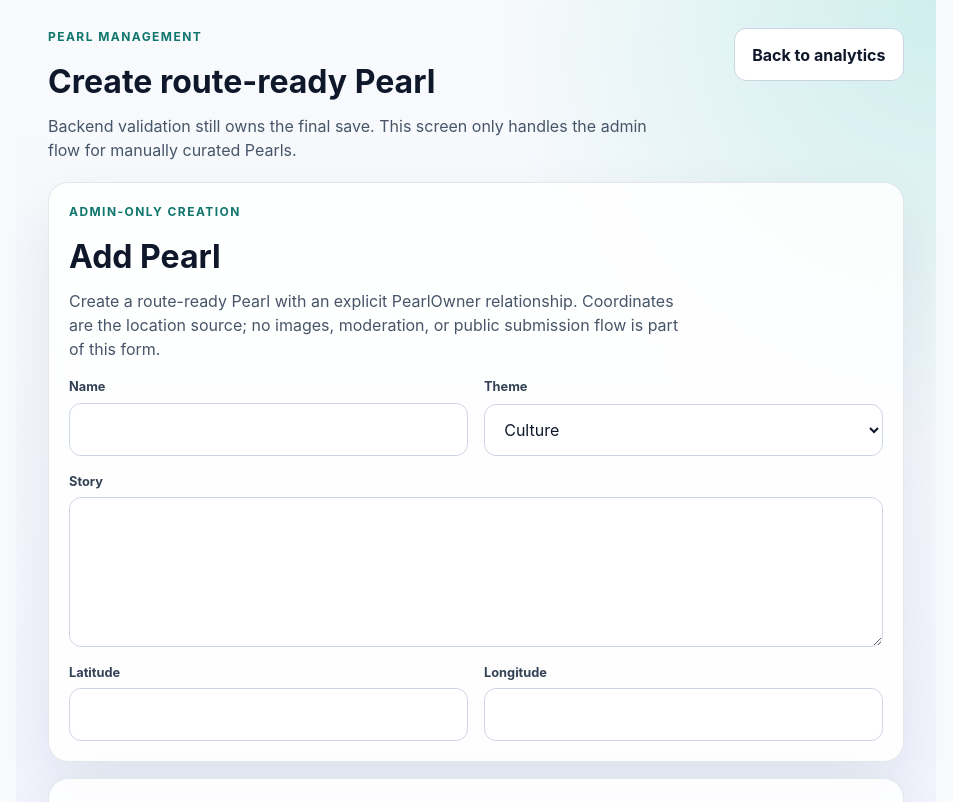
Scenario: AdminAddPearlPage › submits a Pearl with an existing PearlOwner and shows success
Step 1. Type "Hidden Courtyard" into the field labelled "Name" → (268,429), box [69,403,468,456]
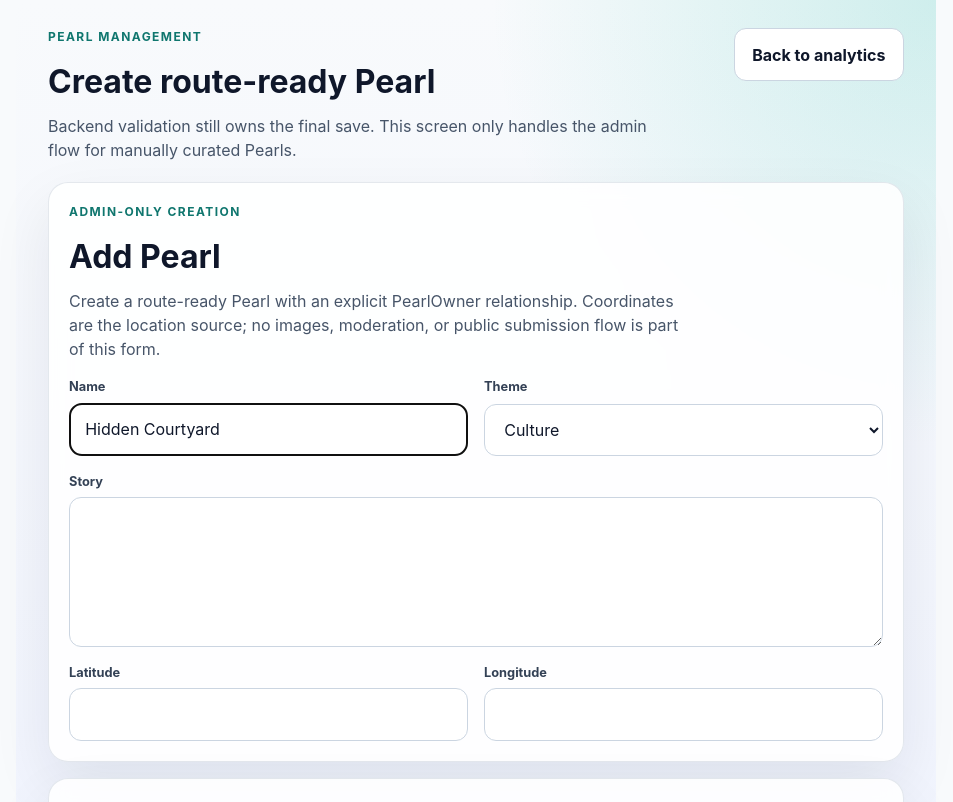
Step 2. Type "A small story about a quiet courtyard in Brussels." into the text box labelled "Story" → (476,572), box [69,497,883,646]
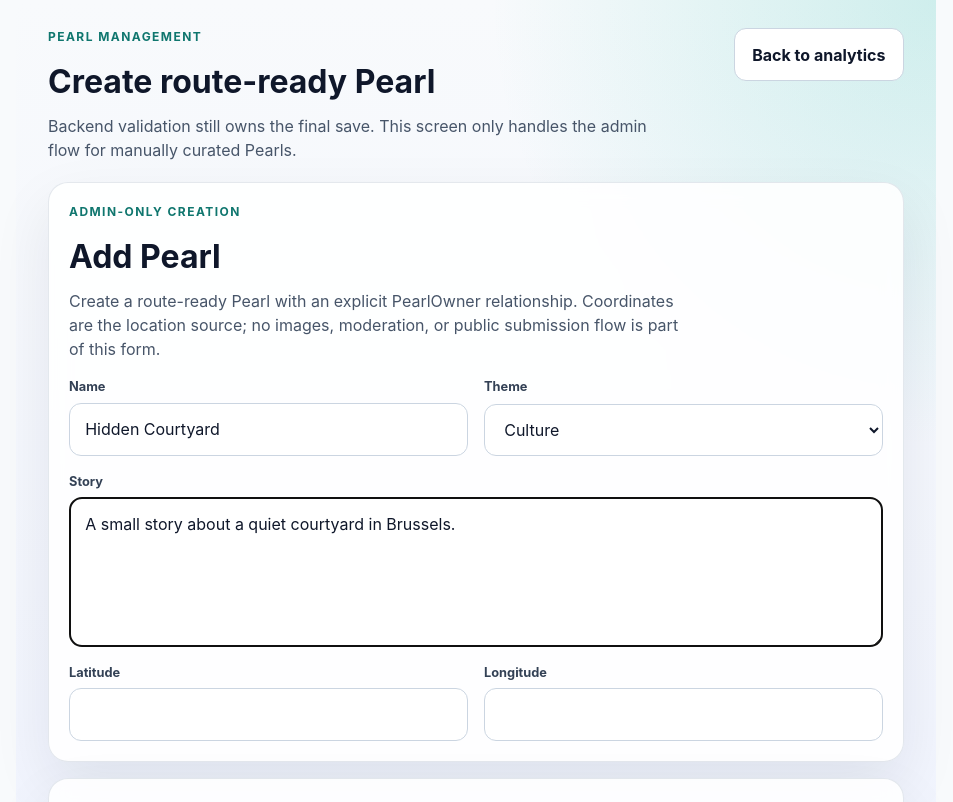
Step 3. Type "50.8467" into the field labelled "Latitude" → (268,715), box [69,688,468,741]
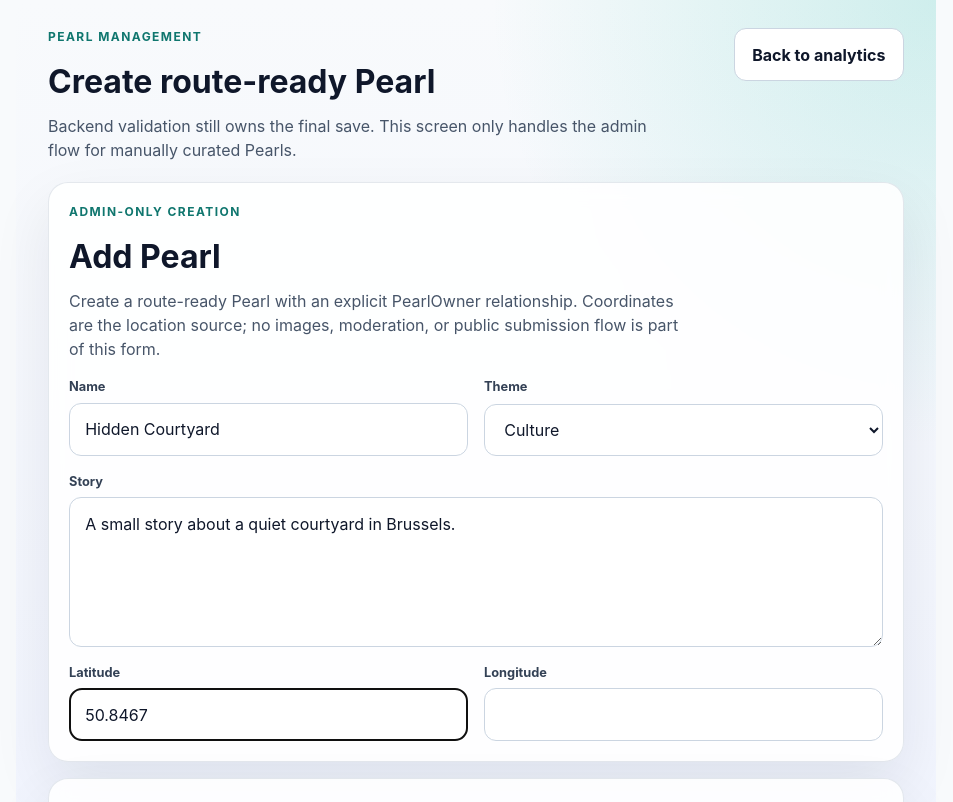
Step 4. Type "4.3525" into the field labelled "Longitude" → (684,715), box [484,688,883,741]
(page scrolled)
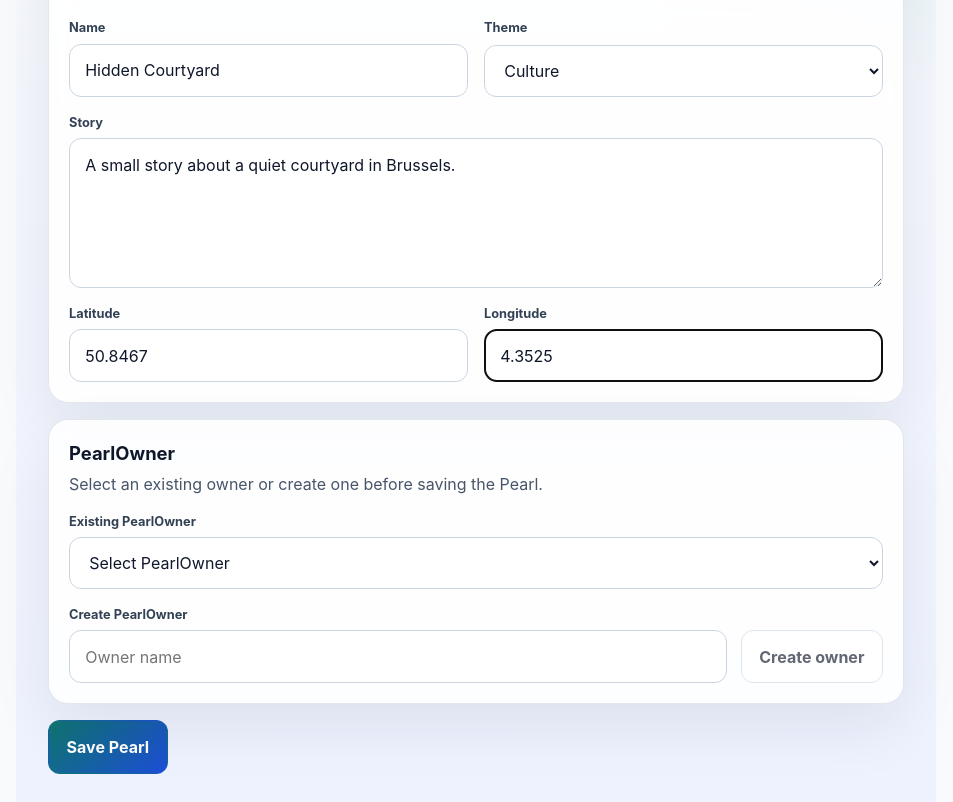
Step 5. Select "Visit Brussels" in the dropdown labelled "Existing PearlOwner" → (476,563), box [69,538,883,589]
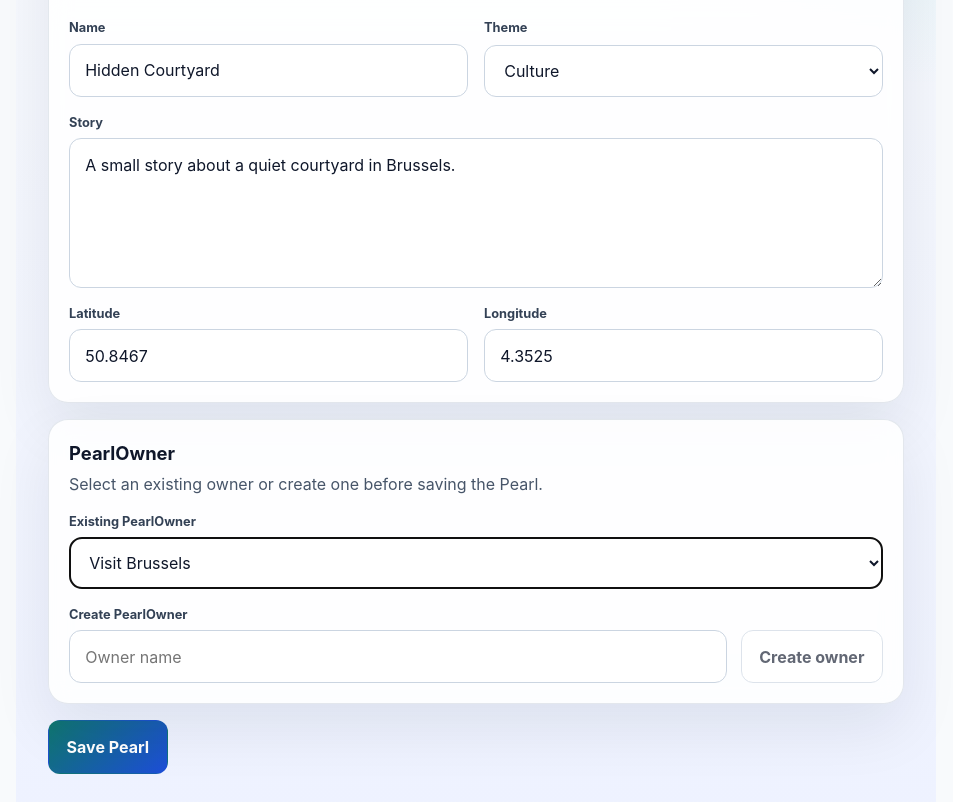
Step 6. Click the button "Save Pearl" → (108,747), box [48,720,168,774]
(page scrolled)
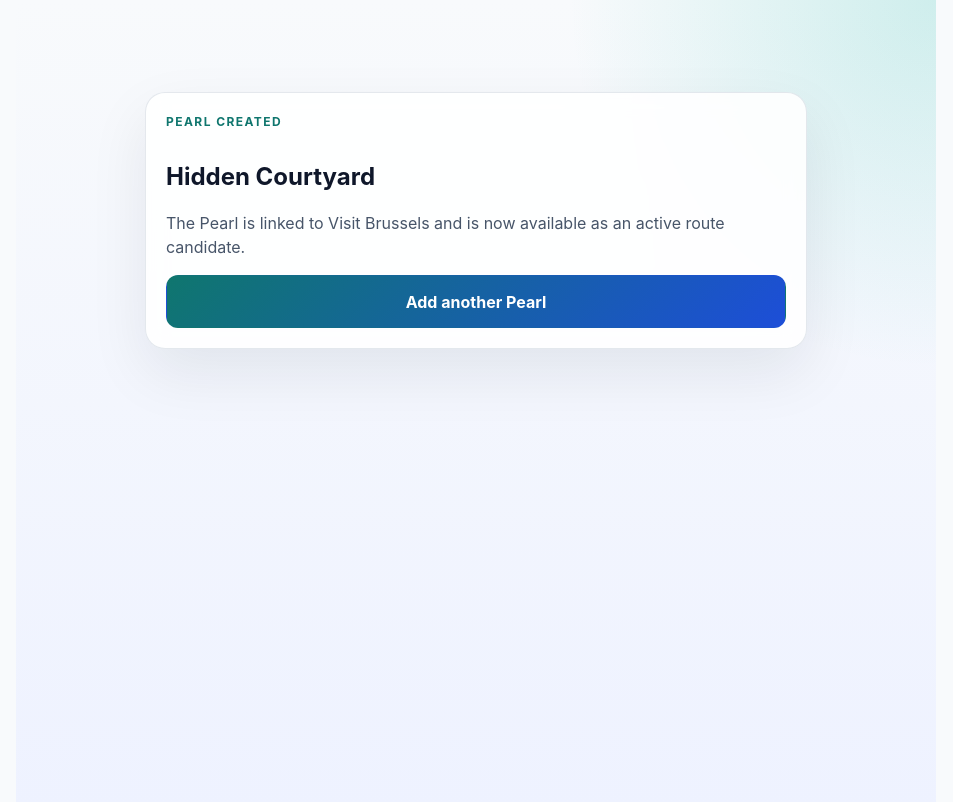
Check: the heading "Hidden Courtyard" is shown, box [166,162,375,191]
Check: the text "is now available as an active route candidate" is shown, box [166,213,725,257]
